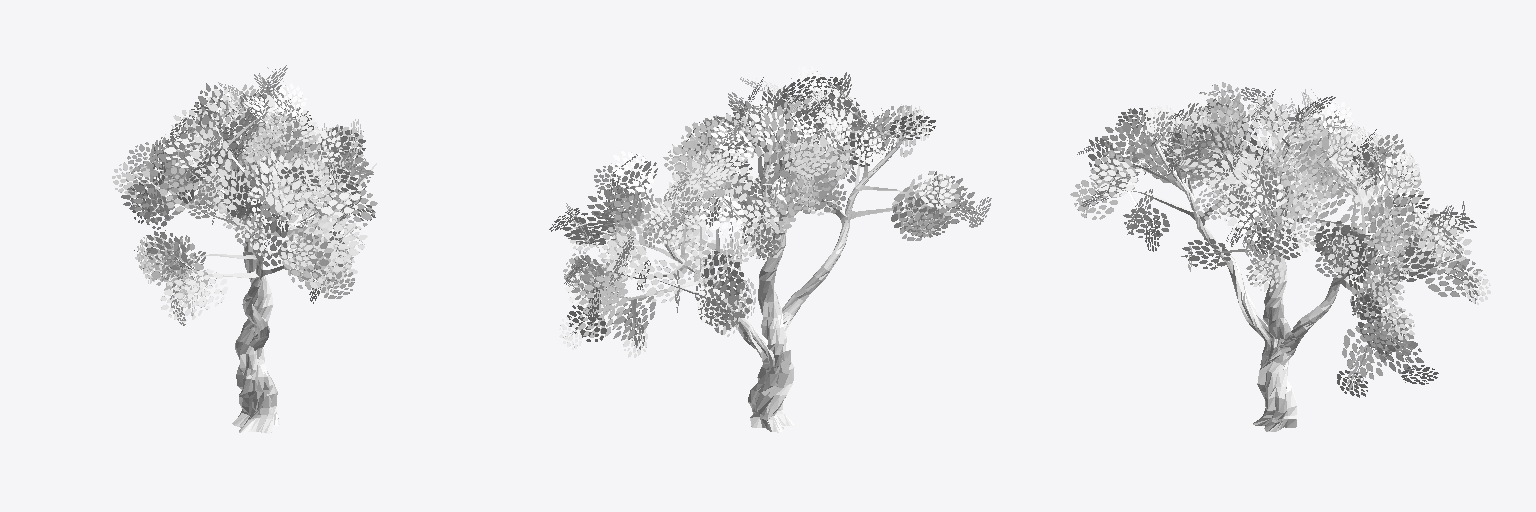
3 views of the same model, side by side, from view 1: azimuth 30°, elevation 25°; view 2: azimuth 150°, elevation 25°; view 3: azimuth 270°, elevation 25° (orthographic).
Visible parts, largest first — view 1: tree; view 2: tree; view 3: tree.
Part boxes in pixels (left/top/right/bottom): tree: left=112, top=65, right=377, bottom=433; tree: left=549, top=66, right=991, bottom=432; tree: left=1070, top=82, right=1490, bottom=431.
Size of the model in its own units: 586 by 600 by 679.
Materials: 3 (1 with a texture image).